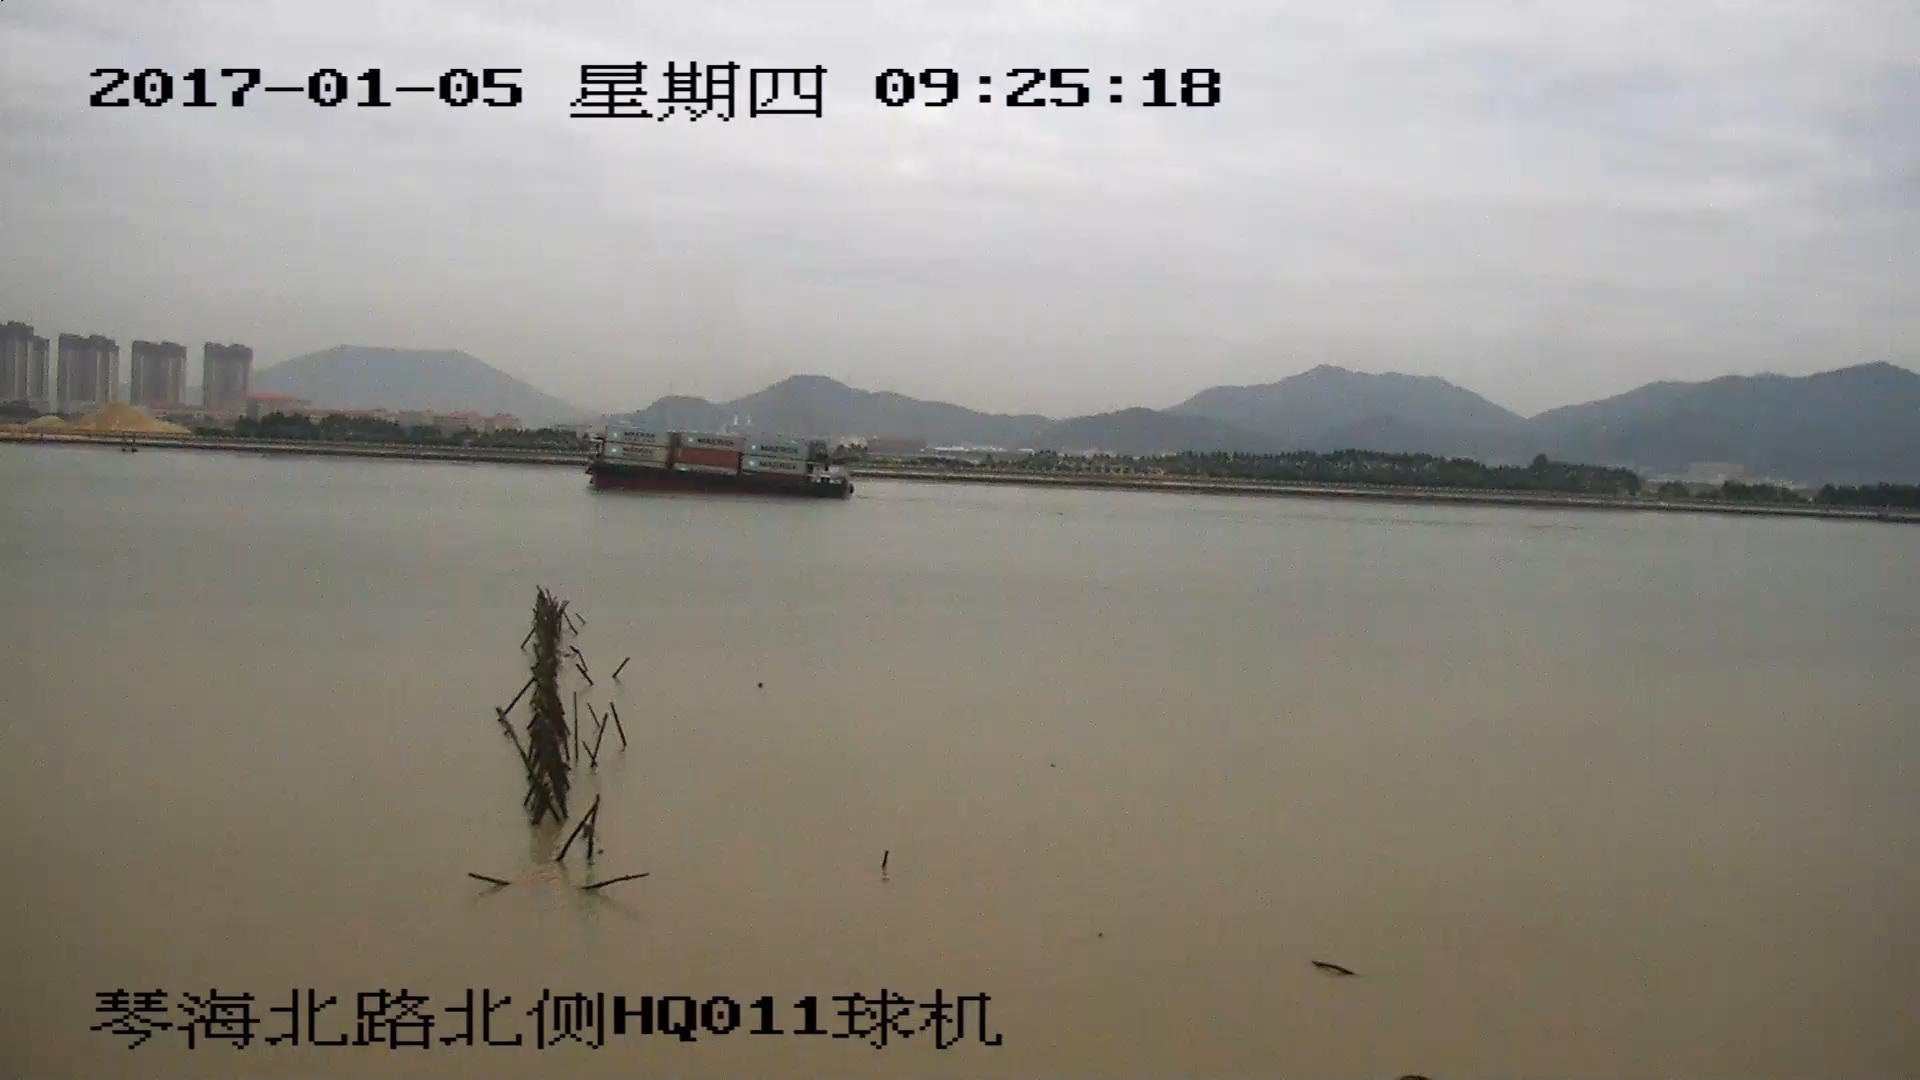Ship: (588, 429, 852, 498)
